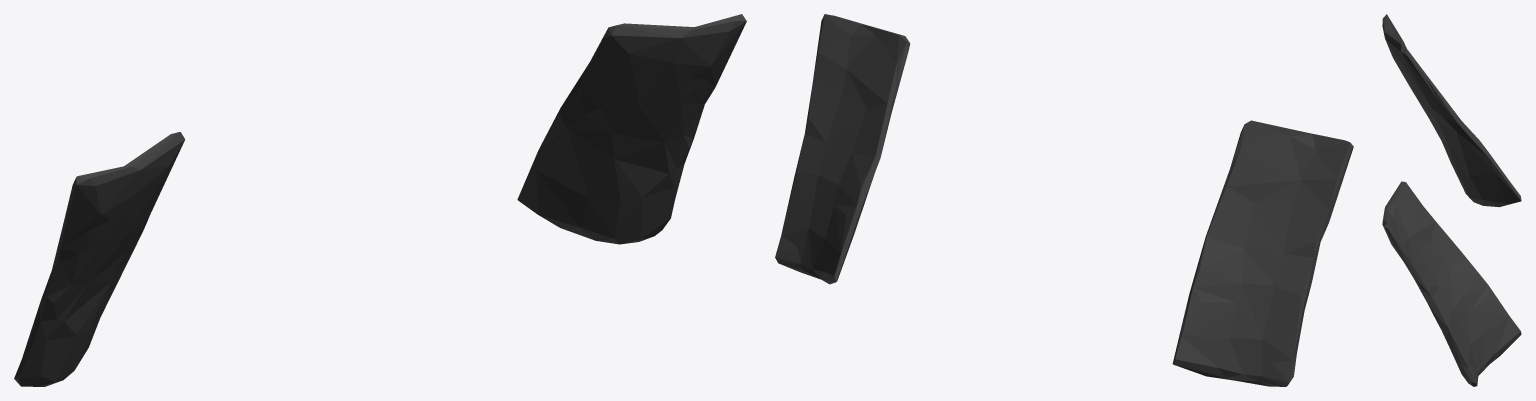
The model's file is fascia_genu.glb.
The picture shows the model from 3 angles, left to right: view 1: azimuth 30°, elevation 25°; view 2: azimuth 150°, elevation 25°; view 3: azimuth 270°, elevation 25°; orthographic projection. The views are drawn at different scales.
Visible parts, largest first — view 1: fascia_genu; view 2: fascia_genu; view 3: fascia_genu.
Boxes of the visible parts, box(x1,y1,x2,y2) form: fascia_genu: box(14, 14, 746, 386); fascia_genu: box(775, 14, 1353, 386); fascia_genu: box(1382, 14, 1521, 386).
Size of the model in its own units: 0.00657 by 0.00259 by 0.00184.
1 material, 1 textured.
